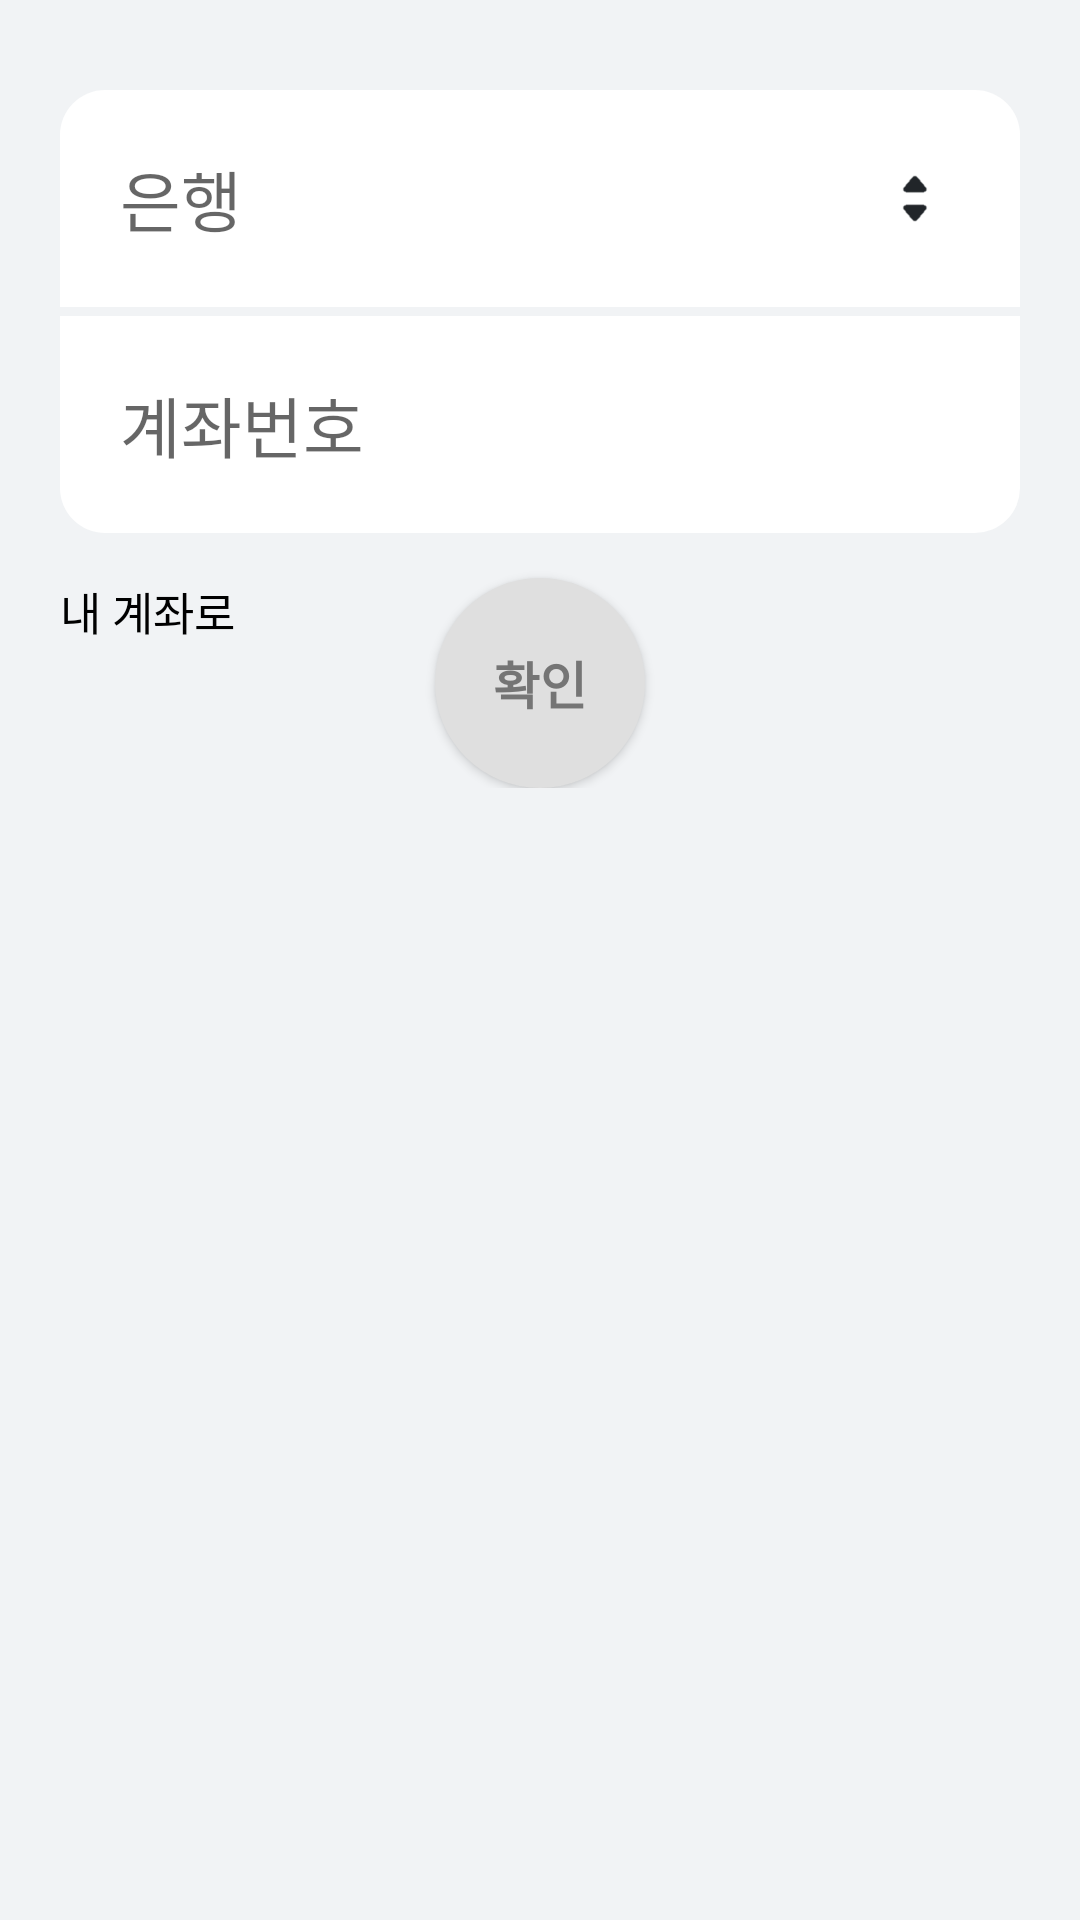

Screen size 1080w x 1920h. Icon name, then its box in pixels as (x1, y1, x2, y2):
select: (903, 175, 927, 222)
